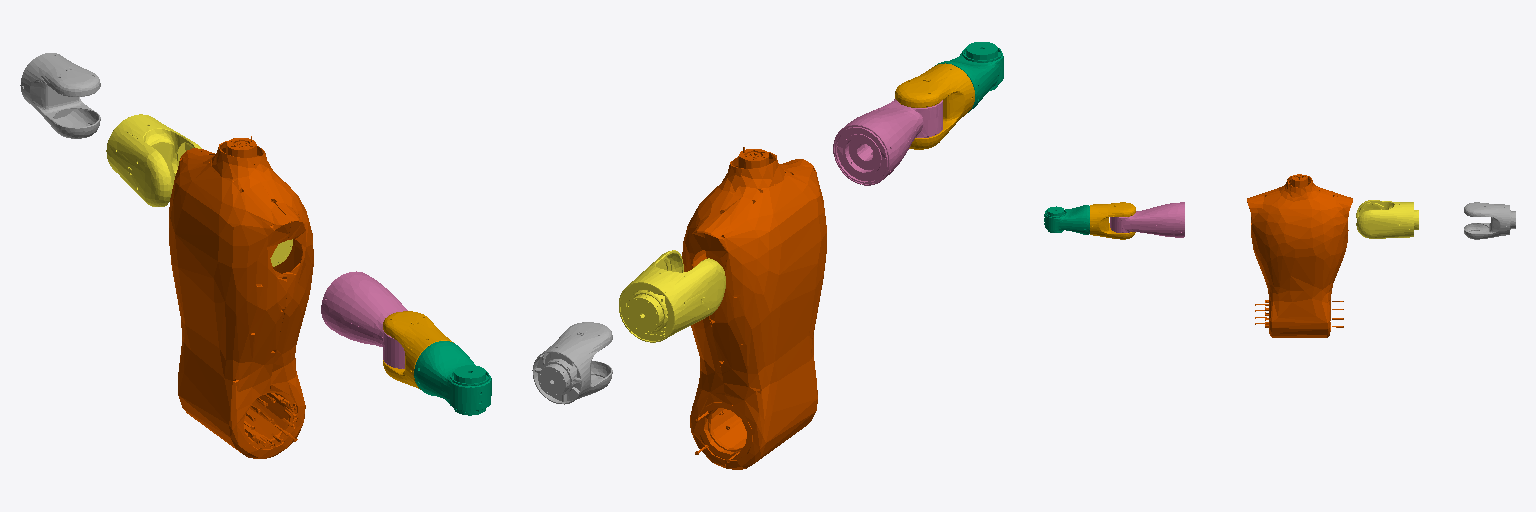
URDF robot description (A2D_NoHand_Flattened):
<?xml version="1.0" encoding="UTF-8"?>
<robot name="A2D_NoHand_Flattened">
  <joint name="joint1_l" type="revolute">
    <origin xyz="0. 0. 0.188" rpy="0.0000001 0.0000001 -3.141592 "/>
    <parent link="base_link_l"/>
    <child link="Link1_l"/>
    <axis xyz="0. 0. 1."/>
    <limit lower="-3.1399998" upper="3.1399998" effort="60." velocity="3.1400001"/>
  </joint>
  <joint name="joint1_r" type="revolute">
    <origin xyz="-0. -0. 0.188" rpy="-0.0000001 -0.0000001 -3.141592 "/>
    <parent link="base_link_r"/>
    <child link="Link1_r"/>
    <axis xyz="0. 0. 1."/>
    <limit lower="-3.1399998" upper="3.1399998" effort="60." velocity="3.1400001"/>
  </joint>
  <joint name="joint2_l" type="revolute">
    <origin xyz="0. -0. -0." rpy="1.5707959 0.0000002 1.570796 "/>
    <parent link="Link1_l"/>
    <child link="Link2_l"/>
    <axis xyz="0. 0. 1."/>
    <limit lower="-1.9218" upper="1.8151" effort="60." velocity="3.1400001"/>
  </joint>
  <joint name="joint2_r" type="revolute">
    <origin xyz="-0. 0. -0." rpy="1.5707966 0.0000001 -1.5707973"/>
    <parent link="Link1_r"/>
    <child link="Link2_r"/>
    <axis xyz="0. 0. 1."/>
    <limit lower="-1.9218" upper="1.8151" effort="60." velocity="3.1400001"/>
  </joint>
  <joint name="joint3_l" type="revolute">
    <origin xyz="0. 0.305 -0.000001" rpy="-1.3734007 1.5707959 0.1973955"/>
    <parent link="Link2_l"/>
    <child link="Link3_l"/>
    <axis xyz="0. 0. 1."/>
    <limit lower="-3.1399998" upper="3.1399998" effort="60." velocity="3.1400001"/>
  </joint>
  <joint name="joint3_r" type="revolute">
    <origin xyz="-0. 0.305 0.0000009" rpy="3.1031501 -1.5707958 1.6092392"/>
    <parent link="Link2_r"/>
    <child link="Link3_r"/>
    <axis xyz="0. 0. 1."/>
    <limit lower="-3.1399998" upper="3.1399998" effort="60." velocity="3.1400001"/>
  </joint>
  <joint name="joint4_l" type="revolute">
    <origin xyz="-0.000001 -0.000002 -0. " rpy="1.5707961 0.0000003 0.0000001"/>
    <parent link="Link3_l"/>
    <child link="Link4_l"/>
    <axis xyz="0. 0. 1."/>
    <limit lower="-1.7" upper="1.466" effort="60." velocity="3.1400001"/>
  </joint>
  <joint name="joint4_r" type="revolute">
    <origin xyz="-0.000001 -0.000002 0.0000001" rpy="1.5707958 -0. 0.0000004"/>
    <parent link="Link3_r"/>
    <child link="Link4_r"/>
    <axis xyz="0. 0. 1."/>
    <limit lower="-1.7" upper="1.466" effort="60." velocity="3.1400001"/>
  </joint>
  <joint name="joint5_l" type="revolute">
    <origin xyz="0. 0.1975 0.000003" rpy="-1.5707961 -0.0000001 0.0000001"/>
    <parent link="Link4_l"/>
    <child link="Link5_l"/>
    <axis xyz="0. 0. 1."/>
    <limit lower="-3.1399998" upper="3.1399998" effort="30." velocity="3.1400001"/>
  </joint>
  <joint name="joint5_r" type="revolute">
    <origin xyz="-0. 0.1975 0.000003" rpy="-1.5707955 0. -0.0000001"/>
    <parent link="Link4_r"/>
    <child link="Link5_r"/>
    <axis xyz="0. 0. 1."/>
    <limit lower="-3.1399998" upper="3.1399998" effort="30." velocity="3.1400001"/>
  </joint>
  <joint name="joint6_l" type="revolute">
    <origin xyz="-0. 0.000002 -0.0000001" rpy="-1.5707959 -0.0000002 0.0000001"/>
    <parent link="Link5_l"/>
    <child link="Link6_l"/>
    <axis xyz="0. 0. 1."/>
    <limit lower="-1.7" upper="1.7" effort="30." velocity="3.1400001"/>
  </joint>
  <joint name="joint6_r" type="revolute">
    <origin xyz="0. 0.000002 -0. " rpy="-1.5707964 -0. -0. "/>
    <parent link="Link5_r"/>
    <child link="Link6_r"/>
    <axis xyz="0. 0. 1."/>
    <limit lower="-1.7" upper="1.7" effort="30." velocity="3.1400001"/>
  </joint>
  <joint name="joint7_l" type="revolute">
    <origin xyz="0. -0.181 -0. " rpy="0.0811767 1.570796 -1.4896193"/>
    <parent link="Link6_l"/>
    <child link="Link7_l"/>
    <axis xyz="0. 0. 1."/>
    <limit lower="-3.1299999" upper="3.1299999" effort="30." velocity="3.1400001"/>
  </joint>
  <joint name="joint7_r" type="revolute">
    <origin xyz="-0. -0.181 0. " rpy="0.0413137 1.5707957 -1.5294824"/>
    <parent link="Link6_r"/>
    <child link="Link7_r"/>
    <axis xyz="0. 0. 1."/>
    <limit lower="-3.1299999" upper="3.1299999" effort="30." velocity="3.1400001"/>
  </joint>
  <joint name="joint_arm_mount" type="fixed">
    <origin xyz="-0.305 -0. 0. " rpy="1.5707927 -0. -1.5707927"/>
    <parent link="link_pitch_body"/>
    <child link="link_arm"/>
  </joint>
  <joint name="joint_body_pitch" type="revolute">
    <origin xyz="0.131 0. 0. " rpy="-1.5871902 1.5707927 -0.0163902"/>
    <parent link="link_up_down_body"/>
    <child link="link_pitch_body"/>
    <axis xyz="0. 0. 1."/>
    <limit lower="0." upper="1.0471976" effort="1000." velocity="2.6099999"/>
  </joint>
  <joint name="joint_head_pitch" type="fixed">
    <origin xyz="-0.050238 0. 0.060065" rpy="1.5708 0. 0. "/>
    <parent link="link_yaw_head"/>
    <child link="link_pitch_head"/>
  </joint>
  <joint name="joint_head_yaw" type="fixed">
    <origin xyz="-0.441 -0. 0. " rpy="-1.5707927 -0.0000001 1.5707927"/>
    <parent link="link_pitch_body"/>
    <child link="link_yaw_head"/>
  </joint>
  <joint name="joint_l_ext" type="fixed">
    <origin xyz="0. -0.1100001 -0.0000001" rpy="0. -0. 0."/>
    <parent link="Link7_l"/>
    <child link="Link_l_ext"/>
  </joint>
  <joint name="joint_left_arm_mount" type="fixed">
    <origin xyz="0.0000001 0.025 0.0000001" rpy="-1.5707963 -0. -0.0000037"/>
    <parent link="link_arm"/>
    <child link="world_l"/>
  </joint>
  <joint name="joint_lift_body" type="prismatic">
    <origin xyz="0. 0. 0.6485" rpy="0. 0. 0."/>
    <parent link="base_link"/>
    <child link="link_up_down_body"/>
    <axis xyz="0. 0. 1."/>
    <limit lower="0." upper="0.5" effort="1000." velocity="2.6099999"/>
  </joint>
  <joint name="joint_r_ext" type="fixed">
    <origin xyz="0. 0.11 -0. " rpy="-0. -0. 0."/>
    <parent link="Link7_r"/>
    <child link="Link_r_ext"/>
  </joint>
  <joint name="joint_right_arm_mount" type="fixed">
    <origin xyz="-0.0000001 -0.025 -0.0000001" rpy="-1.5707964 -0.0000025 3.141589 "/>
    <parent link="link_arm"/>
    <child link="world_r"/>
  </joint>
  <joint name="root_joint" type="fixed">
    <origin xyz="0. 0. 0." rpy="0. 0. 0."/>
    <parent link="A2D"/>
    <child link="base_link"/>
  </joint>
  <joint name="world_joint_l" type="fixed">
    <origin xyz="-0.0000001 0.0000001 0. " rpy="0.000004 -0.0000003 0. "/>
    <parent link="world_l"/>
    <child link="base_link_l"/>
  </joint>
  <joint name="world_joint_r" type="fixed">
    <origin xyz="-0.0000001 -0.0000001 0. " rpy="-0.0000037 -0. 0.0000026"/>
    <parent link="world_r"/>
    <child link="base_link_r"/>
  </joint>
  <link name="A2D"/>
  <link name="Link1_l">
    <inertial>
      <origin xyz="0. 0. 0." rpy="0. 0. 0."/>
      <mass value="0.43694"/>
      <inertia ixx="0.001" ixy="0." ixz="0." iyy="0.001" iyz="0." izz="0.001"/>
    </inertial>
    <visual>
      <origin xyz="0. -0. -0." rpy="-3.1415923 0. -3.1415923"/>
      <geometry>
        <mesh filename="package://wbc/assets/A2D_NoHand/meshes/Link1_l_visuals.obj" scale="1. 1. 1."/>
      </geometry>
    </visual>
    <collision>
      <origin xyz="0. -0. -0." rpy="-3.1415923 0. -3.1415923"/>
      <geometry>
        <mesh filename="package://wbc/assets/A2D_NoHand/meshes/Link1_l_collisions.obj" scale="1. 1. 1."/>
      </geometry>
    </collision>
  </link>
  <link name="Link1_r">
    <inertial>
      <origin xyz="0. 0. 0." rpy="0. 0. 0."/>
      <mass value="0.43694"/>
      <inertia ixx="0.001" ixy="0." ixz="0." iyy="0.001" iyz="0." izz="0.001"/>
    </inertial>
    <visual>
      <origin xyz="-0. -0. -0." rpy="-3.1415923 0. 3.1415923"/>
      <geometry>
        <mesh filename="package://wbc/assets/A2D_NoHand/meshes/Link1_r_visuals.obj" scale="1. 1. 1."/>
      </geometry>
    </visual>
    <collision>
      <origin xyz="-0. -0. -0." rpy="-3.1415923 0. 3.1415923"/>
      <geometry>
        <mesh filename="package://wbc/assets/A2D_NoHand/meshes/Link1_r_collisions.obj" scale="1. 1. 1."/>
      </geometry>
    </collision>
  </link>
  <link name="Link2_l">
    <inertial>
      <origin xyz="0. 0. 0." rpy="0. 0. 0."/>
      <mass value="0.31992"/>
      <inertia ixx="0.001" ixy="0." ixz="0." iyy="0.001" iyz="0." izz="0.001"/>
    </inertial>
    <visual>
      <origin xyz="0. 0. 0." rpy="3.1415923 0. 3.1415923"/>
      <geometry>
        <mesh filename="package://wbc/assets/A2D_NoHand/meshes/Link2_l_visuals.obj" scale="1. 1. 1."/>
      </geometry>
    </visual>
    <collision>
      <origin xyz="0. 0. 0." rpy="3.1415923 0. 3.1415923"/>
      <geometry>
        <mesh filename="package://wbc/assets/A2D_NoHand/meshes/Link2_l_collisions.obj" scale="1. 1. 1."/>
      </geometry>
    </collision>
  </link>
  <link name="Link2_r">
    <inertial>
      <origin xyz="0. 0. 0." rpy="0. 0. 0."/>
      <mass value="0.31992"/>
      <inertia ixx="0.001" ixy="0." ixz="0." iyy="0.001" iyz="0." izz="0.001"/>
    </inertial>
    <visual>
      <origin xyz="0. 0. 0." rpy="-0.0000008 0.0000003 0.0000003"/>
      <geometry>
        <mesh filename="package://wbc/assets/A2D_NoHand/meshes/Link2_r_visuals.obj" scale="1. 1. 1."/>
      </geometry>
    </visual>
    <collision>
      <origin xyz="0. 0. 0." rpy="-0.0000008 0.0000003 0.0000003"/>
      <geometry>
        <mesh filename="package://wbc/assets/A2D_NoHand/meshes/Link2_r_collisions.obj" scale="1. 1. 1."/>
      </geometry>
    </collision>
  </link>
  <link name="Link3_l">
    <inertial>
      <origin xyz="0. 0. 0." rpy="0. 0. 0."/>
      <mass value="0.35545"/>
      <inertia ixx="0.001" ixy="0." ixz="0." iyy="0.001" iyz="0." izz="0.001"/>
    </inertial>
    <visual>
      <origin xyz="-0.000001 -0.000002 -0. " rpy="-3.1415923 -0. -3.1415923"/>
      <geometry>
        <mesh filename="package://wbc/assets/A2D_NoHand/meshes/Link3_l_visuals.obj" scale="1. 1. 1."/>
      </geometry>
    </visual>
    <collision>
      <origin xyz="-0.000001 -0.000002 -0. " rpy="-3.1415923 -0. -3.1415923"/>
      <geometry>
        <mesh filename="package://wbc/assets/A2D_NoHand/meshes/Link3_l_collisions.obj" scale="1. 1. 1."/>
      </geometry>
    </collision>
  </link>
  <link name="Link3_r">
    <inertial>
      <origin xyz="0. 0. 0." rpy="0. 0. 0."/>
      <mass value="0.35545"/>
      <inertia ixx="0.001" ixy="0." ixz="0." iyy="0.001" iyz="0." izz="0.001"/>
    </inertial>
    <visual>
      <origin xyz="-0.000001 -0.000002 0.0000001" rpy="-3.141592 -0.0000001 -3.141592 "/>
      <geometry>
        <mesh filename="package://wbc/assets/A2D_NoHand/meshes/Link3_r_visuals.obj" scale="1. 1. 1."/>
      </geometry>
    </visual>
    <collision>
      <origin xyz="-0.000001 -0.000002 0.0000001" rpy="-3.141592 -0.0000001 -3.141592 "/>
      <geometry>
        <mesh filename="package://wbc/assets/A2D_NoHand/meshes/Link3_r_collisions.obj" scale="1. 1. 1."/>
      </geometry>
    </collision>
  </link>
  <link name="Link4_l">
    <inertial>
      <origin xyz="0. 0. 0." rpy="0. 0. 0."/>
      <mass value="0.1848"/>
      <inertia ixx="0.001" ixy="0." ixz="0." iyy="0.001" iyz="0." izz="0.001"/>
    </inertial>
    <visual>
      <origin xyz="0. 0. 0." rpy="-3.1415923 0. 3.1415923"/>
      <geometry>
        <mesh filename="package://wbc/assets/A2D_NoHand/meshes/Link4_l_visuals.obj" scale="1. 1. 1."/>
      </geometry>
    </visual>
    <collision>
      <origin xyz="0. 0. 0." rpy="-3.1415923 0. 3.1415923"/>
      <geometry>
        <mesh filename="package://wbc/assets/A2D_NoHand/meshes/Link4_l_collisions.obj" scale="1. 1. 1."/>
      </geometry>
    </collision>
  </link>
  <link name="Link4_r">
    <inertial>
      <origin xyz="0. 0. 0." rpy="0. 0. 0."/>
      <mass value="0.1848"/>
      <inertia ixx="0.001" ixy="0." ixz="0." iyy="0.001" iyz="0." izz="0.001"/>
    </inertial>
    <visual>
      <origin xyz="-0. 0. -0." rpy="-3.1415925 0. 3.1415923"/>
      <geometry>
        <mesh filename="package://wbc/assets/A2D_NoHand/meshes/Link4_r_visuals.obj" scale="1. 1. 1."/>
      </geometry>
    </visual>
    <collision>
      <origin xyz="-0. 0. -0." rpy="-3.1415925 0. 3.1415923"/>
      <geometry>
        <mesh filename="package://wbc/assets/A2D_NoHand/meshes/Link4_r_collisions.obj" scale="1. 1. 1."/>
      </geometry>
    </collision>
  </link>
  <link name="Link5_l">
    <inertial>
      <origin xyz="0. 0. 0." rpy="0. 0. 0."/>
      <mass value="0.1775"/>
      <inertia ixx="0.001" ixy="0." ixz="0." iyy="0.001" iyz="0." izz="0.001"/>
    </inertial>
    <visual>
      <origin xyz="-0. 0.000002 -0.0000001" rpy="0. 0. 0."/>
      <geometry>
        <mesh filename="package://wbc/assets/A2D_NoHand/meshes/Link5_l_visuals.obj" scale="1. 1. 1."/>
      </geometry>
    </visual>
    <collision>
      <origin xyz="-0. 0.000002 -0.0000001" rpy="0. 0. 0."/>
      <geometry>
        <mesh filename="package://wbc/assets/A2D_NoHand/meshes/Link5_l_collisions.obj" scale="1. 1. 1."/>
      </geometry>
    </collision>
  </link>
  <link name="Link5_r">
    <inertial>
      <origin xyz="0. 0. 0." rpy="0. 0. 0."/>
      <mass value="0.1775"/>
      <inertia ixx="0.001" ixy="0." ixz="0." iyy="0.001" iyz="0." izz="0.001"/>
    </inertial>
    <visual>
      <origin xyz="0. 0.000002 0. " rpy="-0. 0. 0."/>
      <geometry>
        <mesh filename="package://wbc/assets/A2D_NoHand/meshes/Link5_r_visuals.obj" scale="1. 1. 1."/>
      </geometry>
    </visual>
    <collision>
      <origin xyz="0. 0.000002 0. " rpy="-0. 0. 0."/>
      <geometry>
        <mesh filename="package://wbc/assets/A2D_NoHand/meshes/Link5_r_collisions.obj" scale="1. 1. 1."/>
      </geometry>
    </collision>
  </link>
  <link name="Link6_l">
    <inertial>
      <origin xyz="0. 0. 0." rpy="0. 0. 0."/>
      <mass value="0.17825"/>
      <inertia ixx="0.001" ixy="0." ixz="0." iyy="0.001" iyz="0." izz="0.001"/>
    </inertial>
    <visual>
      <origin xyz="0. 0. -0." rpy="3.1415923 0. -3.1415923"/>
      <geometry>
        <mesh filename="package://wbc/assets/A2D_NoHand/meshes/Link6_l_visuals.obj" scale="1. 1. 1."/>
      </geometry>
    </visual>
    <collision>
      <origin xyz="0. 0. -0." rpy="3.1415923 0. -3.1415923"/>
      <geometry>
        <mesh filename="package://wbc/assets/A2D_NoHand/meshes/Link6_l_collisions.obj" scale="1. 1. 1."/>
      </geometry>
    </collision>
  </link>
  <link name="Link6_r">
    <inertial>
      <origin xyz="0. 0. 0." rpy="0. 0. 0."/>
      <mass value="0.17825"/>
      <inertia ixx="0.001" ixy="0." ixz="0." iyy="0.001" iyz="0." izz="0.001"/>
    </inertial>
    <visual>
      <origin xyz="-0. -0. 0." rpy="3.1415925 0. -3.1415923"/>
      <geometry>
        <mesh filename="package://wbc/assets/A2D_NoHand/meshes/Link6_r_visuals.obj" scale="1. 1. 1."/>
      </geometry>
    </visual>
    <collision>
      <origin xyz="-0. -0. 0." rpy="3.1415925 0. -3.1415923"/>
      <geometry>
        <mesh filename="package://wbc/assets/A2D_NoHand/meshes/Link6_r_collisions.obj" scale="1. 1. 1."/>
      </geometry>
    </collision>
  </link>
  <link name="Link7_l">
    <inertial>
      <origin xyz="0. 0. 0." rpy="0. 0. 0."/>
      <mass value="0.06158"/>
      <inertia ixx="0.001" ixy="0." ixz="0." iyy="0.001" iyz="0." izz="0.001"/>
    </inertial>
    <visual>
      <origin xyz="-0.000002 -0.0000021 -0.0000001" rpy="0. 0. 0.0000001"/>
      <geometry>
        <mesh filename="package://wbc/assets/A2D_NoHand/meshes/Link7_l_visuals.obj" scale="1. 1. 1."/>
      </geometry>
    </visual>
    <collision>
      <origin xyz="-0.000002 -0.0000021 -0.0000001" rpy="0. 0. 0.0000001"/>
      <geometry>
        <mesh filename="package://wbc/assets/A2D_NoHand/meshes/Link7_l_collisions.obj" scale="1. 1. 1."/>
      </geometry>
    </collision>
  </link>
  <link name="Link7_r">
    <inertial>
      <origin xyz="0. 0. 0." rpy="0. 0. 0."/>
      <mass value="0.06158"/>
      <inertia ixx="0.001" ixy="0." ixz="0." iyy="0.001" iyz="0." izz="0.001"/>
    </inertial>
    <visual>
      <origin xyz="0. -0.000002 0.0000001" rpy="-0. -0. 0."/>
      <geometry>
        <mesh filename="package://wbc/assets/A2D_NoHand/meshes/Link7_r_visuals.obj" scale="1. 1. 1."/>
      </geometry>
    </visual>
    <collision>
      <origin xyz="-0.0000018 -0.000002 0.0000001" rpy="-0. -0. 0."/>
      <geometry>
        <mesh filename="package://wbc/assets/A2D_NoHand/meshes/Link7_r_collisions.obj" scale="1. 1. 1."/>
      </geometry>
    </collision>
  </link>
  <link name="Link_l_ext">
    <inertial>
      <origin xyz="0. 0. 0." rpy="0. 0. 0."/>
      <mass value="0.06158"/>
      <inertia ixx="0.001" ixy="0." ixz="0." iyy="0.001" iyz="0." izz="0.001"/>
    </inertial>
    <visual>
      <origin xyz="-0.000002 -0.000002 -0. " rpy="0. 0. 0."/>
      <geometry>
        <mesh filename="package://wbc/assets/A2D_NoHand/meshes/Link_l_ext_visuals.obj" scale="1. 1. 1."/>
      </geometry>
    </visual>
    <collision>
      <origin xyz="-0.000002 -0.000002 -0. " rpy="0. 0. 0."/>
      <geometry>
        <mesh filename="package://wbc/assets/A2D_NoHand/meshes/Link_l_ext_collisions.obj" scale="1. 1. 1."/>
      </geometry>
    </collision>
  </link>
  <link name="Link_r_ext">
    <inertial>
      <origin xyz="0. 0. 0." rpy="0. 0. 0."/>
      <mass value="0.06158"/>
      <inertia ixx="0.001" ixy="0." ixz="0." iyy="0.001" iyz="0." izz="0.001"/>
    </inertial>
    <visual>
      <origin xyz="0. -0.000002 0.0000001" rpy="-0. -0. 0."/>
      <geometry>
        <mesh filename="package://wbc/assets/A2D_NoHand/meshes/Link_r_ext_visuals.obj" scale="1. 1. 1."/>
      </geometry>
    </visual>
    <collision>
      <origin xyz="-0.0000018 -0.000002 0.0000001" rpy="-0. -0. 0."/>
      <geometry>
        <mesh filename="package://wbc/assets/A2D_NoHand/meshes/Link_r_ext_collisions.obj" scale="1. 1. 1."/>
      </geometry>
    </collision>
  </link>
  <link name="base_link">
    <inertial>
      <origin xyz="0. 0. 0." rpy="0. 0. 0."/>
      <mass value="23.2085381"/>
      <inertia ixx="0.001" ixy="0." ixz="0." iyy="0.001" iyz="0." izz="0.001"/>
    </inertial>
    <visual>
      <origin xyz="0. 0. 0." rpy="0. 0. 0."/>
      <geometry>
        <mesh filename="package://wbc/assets/A2D_NoHand/meshes/base_link_visuals.obj" scale="1. 1. 1."/>
      </geometry>
    </visual>
    <collision>
      <origin xyz="0. 0. 0." rpy="0. 0. 0."/>
      <geometry>
        <mesh filename="package://wbc/assets/A2D_NoHand/meshes/base_link_collisions.obj" scale="1. 1. 1."/>
      </geometry>
    </collision>
  </link>
  <link name="base_link_l">
    <inertial>
      <origin xyz="0. 0. 0." rpy="0. 0. 0."/>
      <mass value="0.37595"/>
      <inertia ixx="0.001" ixy="0." ixz="0." iyy="0.001" iyz="0." izz="0.001"/>
    </inertial>
    <visual>
      <origin xyz="0. 0. 0." rpy="-0. -0. 0."/>
      <geometry>
        <mesh filename="package://wbc/assets/A2D_NoHand/meshes/base_link_l_visuals.obj" scale="1. 1. 1."/>
      </geometry>
    </visual>
    <collision>
      <origin xyz="0. 0. 0." rpy="-0. -0. 0."/>
      <geometry>
        <mesh filename="package://wbc/assets/A2D_NoHand/meshes/base_link_l_collisions.obj" scale="1. 1. 1."/>
      </geometry>
    </collision>
  </link>
  <link name="base_link_r">
    <inertial>
      <origin xyz="0. 0. 0." rpy="0. 0. 0."/>
      <mass value="0.37595"/>
      <inertia ixx="0.001" ixy="0." ixz="0." iyy="0.001" iyz="0." izz="0.001"/>
    </inertial>
    <visual>
      <origin xyz="0. 0. 0." rpy="0. 0. 0."/>
      <geometry>
        <mesh filename="package://wbc/assets/A2D_NoHand/meshes/base_link_r_visuals.obj" scale="1. 1. 1."/>
      </geometry>
    </visual>
    <collision>
      <origin xyz="0. 0. 0." rpy="0. 0. 0."/>
      <geometry>
        <mesh filename="package://wbc/assets/A2D_NoHand/meshes/base_link_r_collisions.obj" scale="1. 1. 1."/>
      </geometry>
    </collision>
  </link>
  <link name="link_arm">
    <inertial>
      <origin xyz="-inf -inf -inf" rpy="0. 0. 0."/>
      <mass value="0.000001"/>
      <inertia ixx="0.00001" ixy="0." ixz="0." iyy="0.00001" iyz="0." izz="0.00001"/>
    </inertial>
  </link>
  <link name="link_pitch_body">
    <inertial>
      <origin xyz="0. 0. 0." rpy="0. 0. 0."/>
      <mass value="7.531992"/>
      <inertia ixx="0.001" ixy="0." ixz="0." iyy="0.001" iyz="0." izz="0.001"/>
    </inertial>
    <visual>
      <origin xyz="0. 0. 0." rpy="-0.0000026 -0. -3.1415927"/>
      <geometry>
        <mesh filename="package://wbc/assets/A2D_NoHand/meshes/link_pitch_body_visuals.obj" scale="1. 1. 1."/>
      </geometry>
    </visual>
    <collision>
      <origin xyz="0. 0. 0." rpy="-0.0000026 -0. -3.1415927"/>
      <geometry>
        <mesh filename="package://wbc/assets/A2D_NoHand/meshes/link_pitch_body_collisions.obj" scale="1. 1. 1."/>
      </geometry>
    </collision>
  </link>
  <link name="link_pitch_head">
    <inertial>
      <origin xyz="0. 0. 0." rpy="0. 0. 0."/>
      <mass value="0.707064"/>
      <inertia ixx="0.001" ixy="0." ixz="0." iyy="0.001" iyz="0." izz="0.001"/>
    </inertial>
    <visual>
      <origin xyz="-0. 0. 0." rpy="3.1415927 0.0000025 3.1415927"/>
      <geometry>
        <mesh filename="package://wbc/assets/A2D_NoHand/meshes/link_pitch_head_visuals.obj" scale="1. 1. 1."/>
      </geometry>
    </visual>
    <collision>
      <origin xyz="-0. 0. 0." rpy="3.1415927 0.0000025 3.1415927"/>
      <geometry>
        <mesh filename="package://wbc/assets/A2D_NoHand/meshes/link_pitch_head_collisions.obj" scale="1. 1. 1."/>
      </geometry>
    </collision>
  </link>
  <link name="link_up_down_body">
    <inertial>
      <origin xyz="0. 0. 0." rpy="0. 0. 0."/>
      <mass value="3.2627544"/>
      <inertia ixx="0.001" ixy="0." ixz="0." iyy="0.001" iyz="0." izz="0.001"/>
    </inertial>
    <visual>
      <origin xyz="0. 0. 0." rpy="0. 0. 0."/>
      <geometry>
        <mesh filename="package://wbc/assets/A2D_NoHand/meshes/link_up_down_body_visuals.obj" scale="1. 1. 1."/>
      </geometry>
    </visual>
    <collision>
      <origin xyz="0. 0. 0." rpy="0. 0. 0."/>
      <geometry>
        <mesh filename="package://wbc/assets/A2D_NoHand/meshes/link_up_down_body_collisions.obj" scale="1. 1. 1."/>
      </geometry>
    </collision>
  </link>
  <link name="link_yaw_head">
    <inertial>
      <origin xyz="0. 0. 0." rpy="0. 0. 0."/>
      <mass value="0.4143429"/>
      <inertia ixx="0.001" ixy="0." ixz="0." iyy="0.001" iyz="0." izz="0.001"/>
    </inertial>
    <visual>
      <origin xyz="-0. 0. 0." rpy="0. -0. 3.14159"/>
      <geometry>
        <mesh filename="package://wbc/assets/A2D_NoHand/meshes/link_yaw_head_visuals.obj" scale="1. 1. 1."/>
      </geometry>
    </visual>
    <collision>
      <origin xyz="-0. 0. 0." rpy="0. -0. 3.14159"/>
      <geometry>
        <mesh filename="package://wbc/assets/A2D_NoHand/meshes/link_yaw_head_collisions.obj" scale="1. 1. 1."/>
      </geometry>
    </collision>
  </link>
  <link name="world_l"/>
  <link name="world_r"/>
</robot>

--- Facts derived from the render (not from the file) ---
3 views of the same robot in one strip: view 1: azimuth 30°, elevation 25°; view 2: azimuth 150°, elevation 25°; view 3: azimuth 270°, elevation 25° (orthographic).
Model A2D_NoHand_Flattened with 27 links and 26 joints (15 revolute, 1 prismatic, 10 fixed), rooted at A2D, posed all joints at 0.
Visible links, largest first — view 1: link_pitch_body, Link2_l, Link4_l, Link3_r, Link5_r, Link4_r; view 2: link_pitch_body, Link2_l, Link3_r, Link4_l, Link4_r, Link5_r; view 3: link_pitch_body, Link2_l, Link3_r, Link4_l, Link4_r, Link5_r.
Link boxes in pixels (x1,y1,x2,y2): link_pitch_body: (169,136,313,458); Link2_l: (106,114,201,206); Link4_l: (20,53,100,138); Link3_r: (321,271,407,368); Link5_r: (414,341,491,415); Link4_r: (383,311,453,389); link_pitch_body: (682,147,826,469); Link2_l: (619,250,725,342); Link3_r: (833,99,942,185); Link4_l: (532,322,612,404); Link4_r: (895,63,974,149); Link5_r: (935,42,1003,112); link_pitch_body: (1247,174,1352,337); Link2_l: (1356,200,1418,238); Link3_r: (1110,202,1184,237); Link4_l: (1464,202,1515,239); Link4_r: (1090,202,1135,239); Link5_r: (1044,205,1089,234).
Size in the robot's own frame: 0.182 by 1.38 by 0.5239 metres.
7 mesh visuals loaded from 23 distinct referenced files (7 OBJ); not drawn: 16 (reference not matched to a file when rendering).